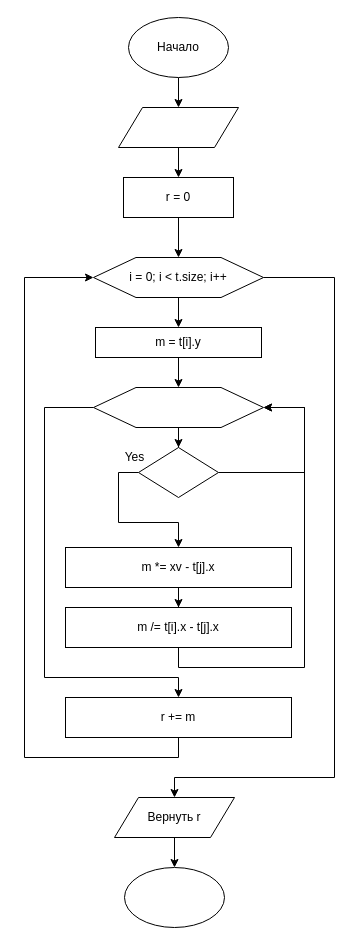
This 360x945 diagram has some shape labels left out. The shapes that lost their labels are listed below. From the top down, each one's centre as x and y in pixels, then its label:
the point at 178,127: Ввод t, x
the point at 178,407: j = 0; j < t.size; j++
the point at 178,472: j != i
the point at 174,897: Конец
